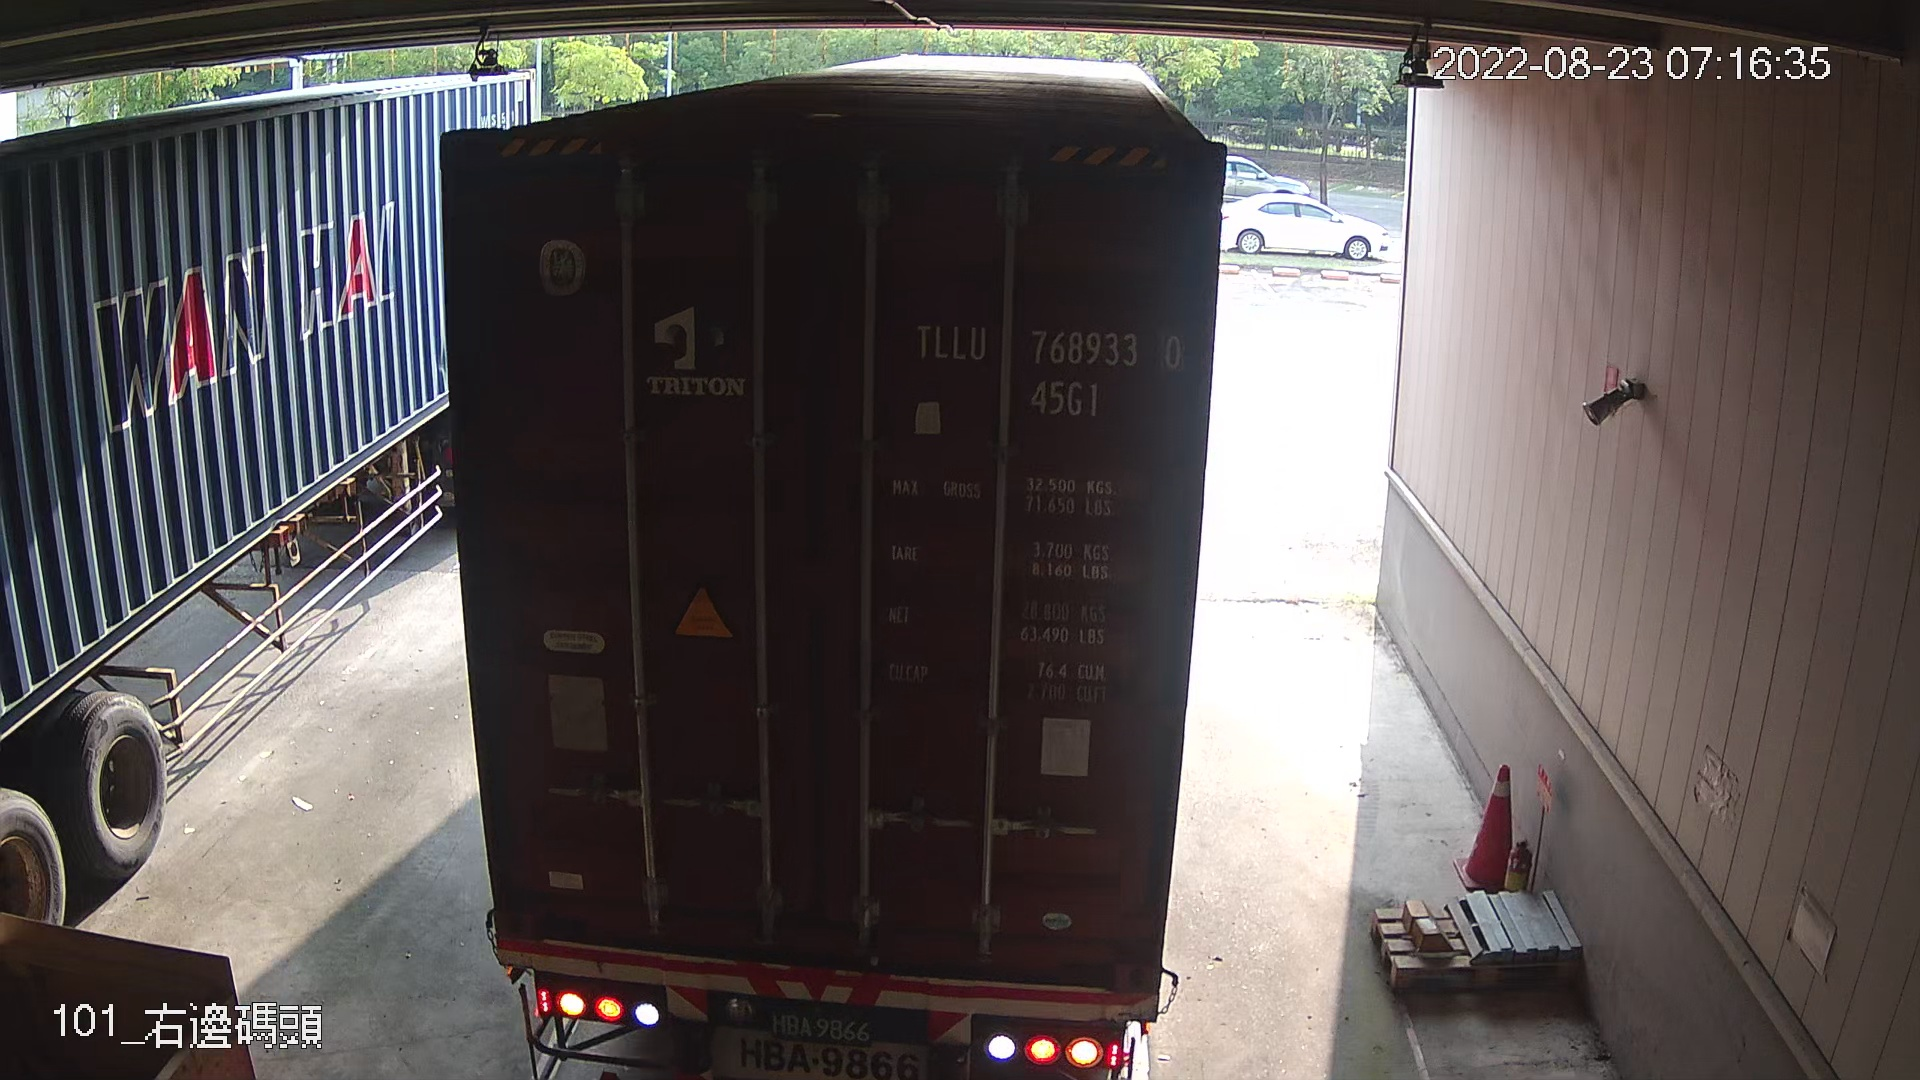container: (903, 313, 1197, 433)
